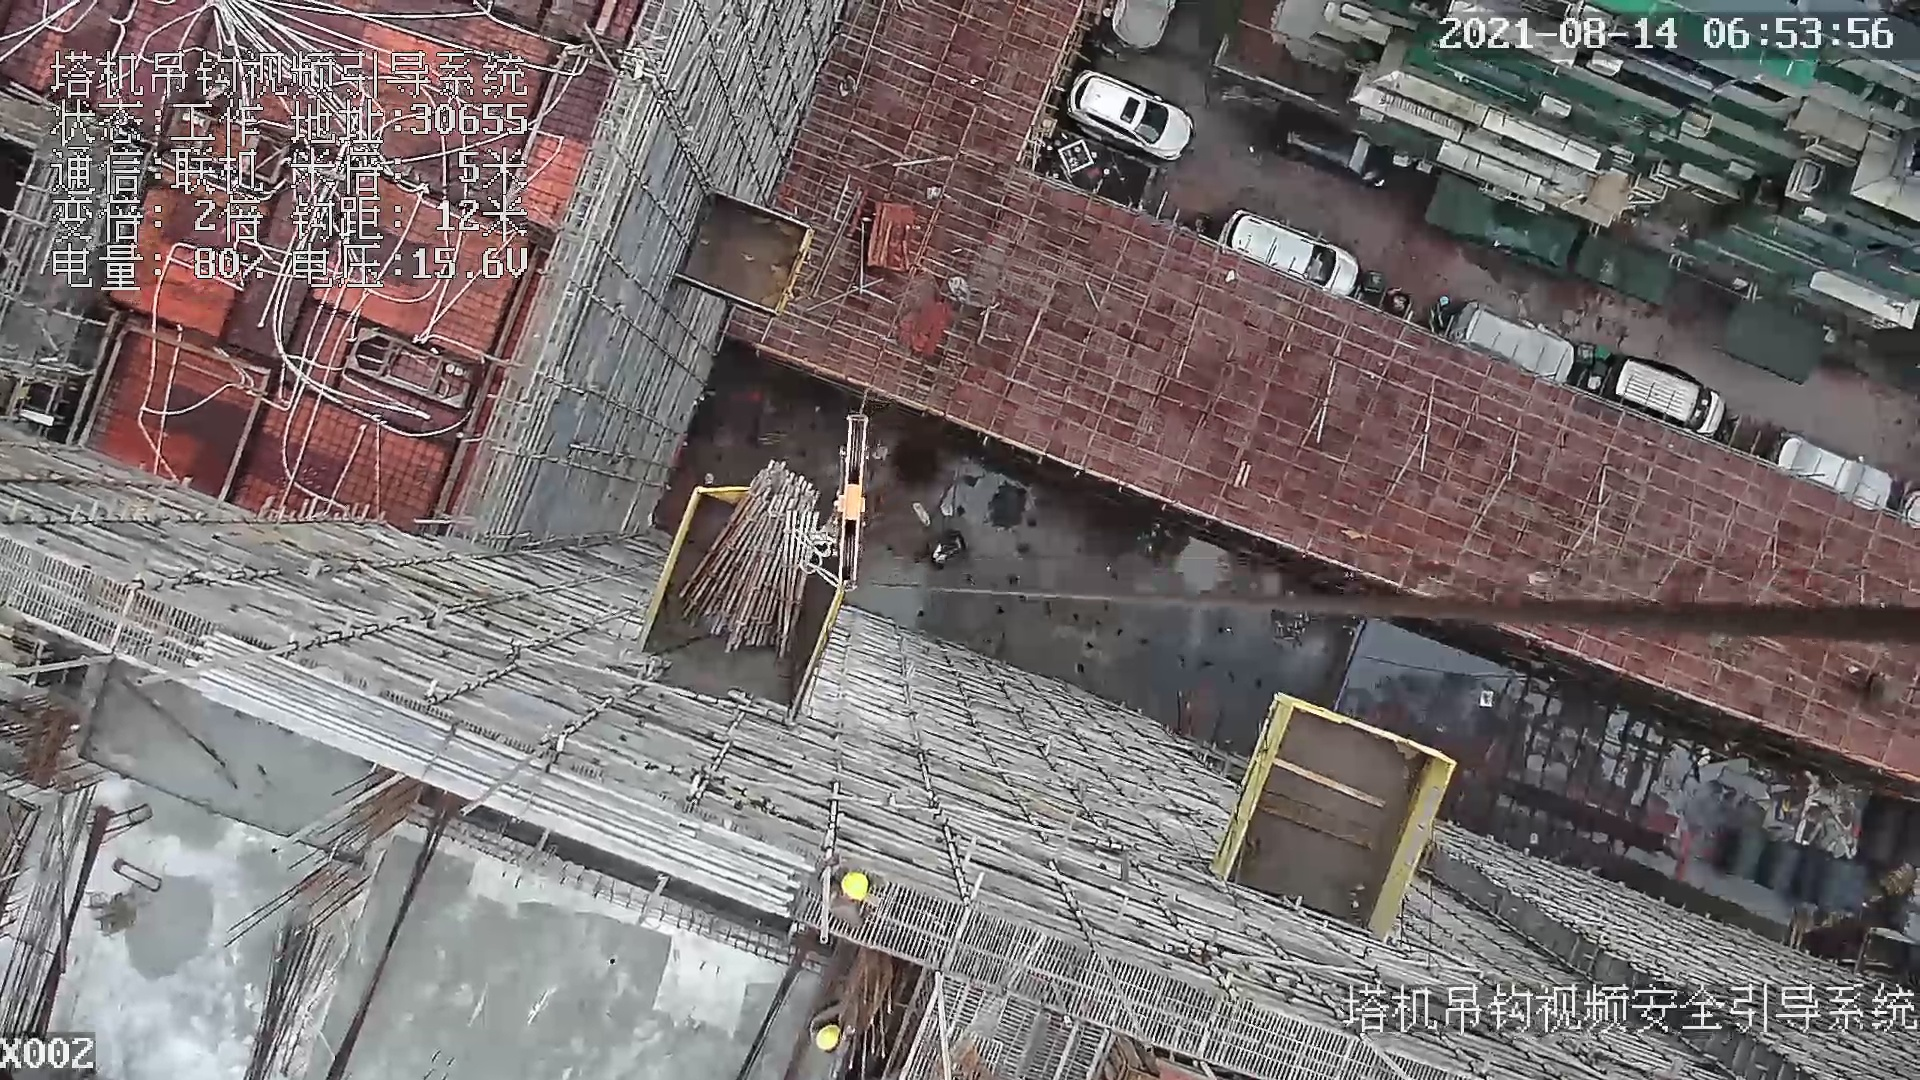helmet: (840, 872, 868, 901), (816, 1025, 840, 1051)
hook: (826, 413, 869, 592)
person: (805, 841, 869, 924), (799, 1000, 863, 1054)
rebar: (183, 633, 802, 923), (239, 922, 333, 1080)
scaffold: (680, 460, 821, 659)
